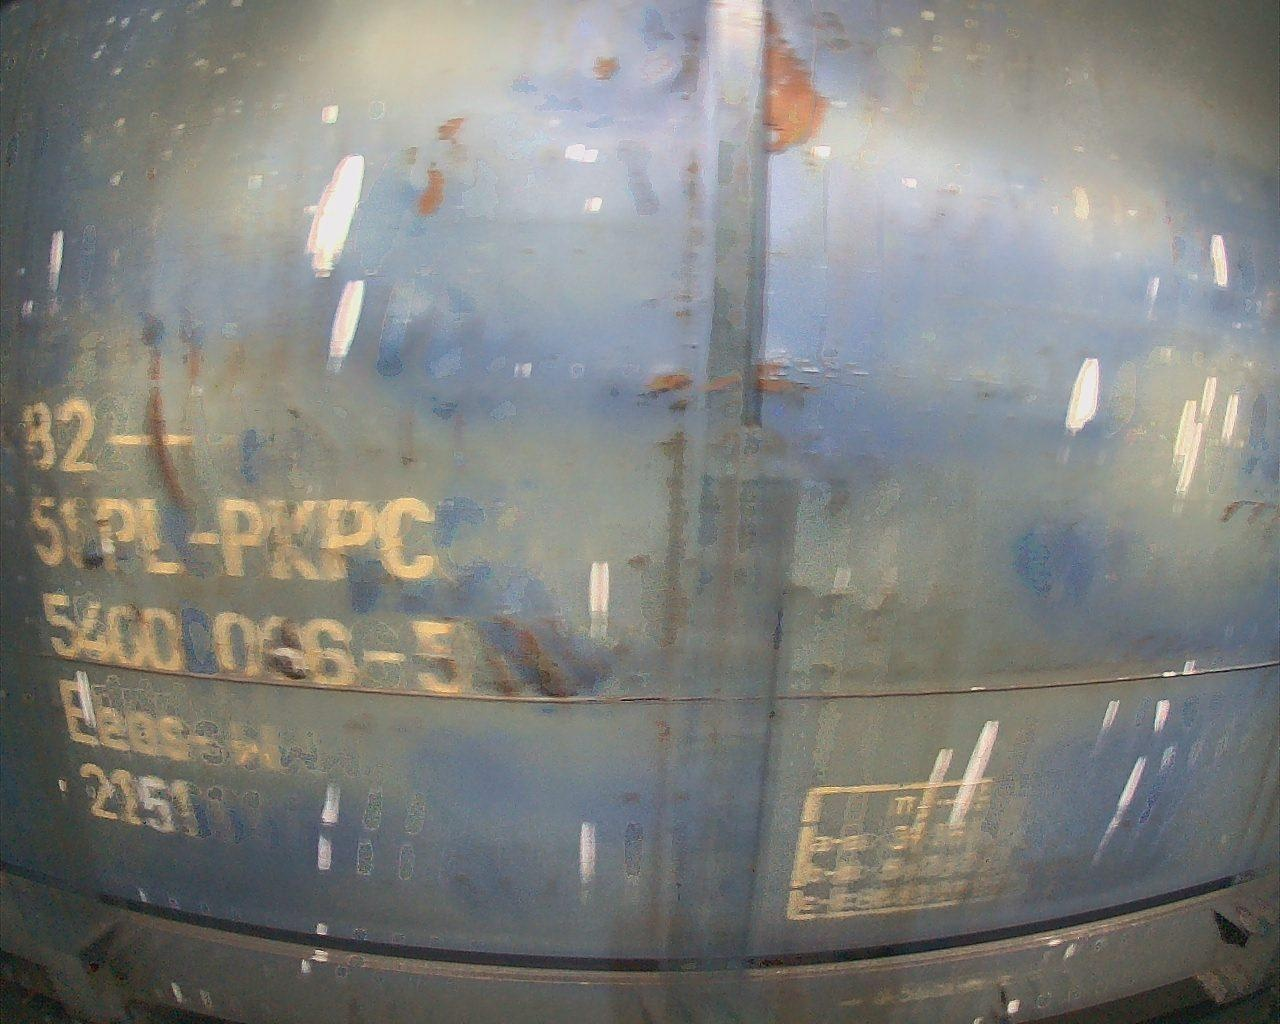UIC: (17, 397, 471, 841)
